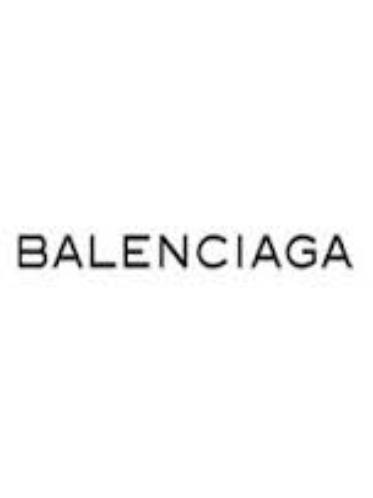BALENCIAGA: (14, 225, 353, 269)
